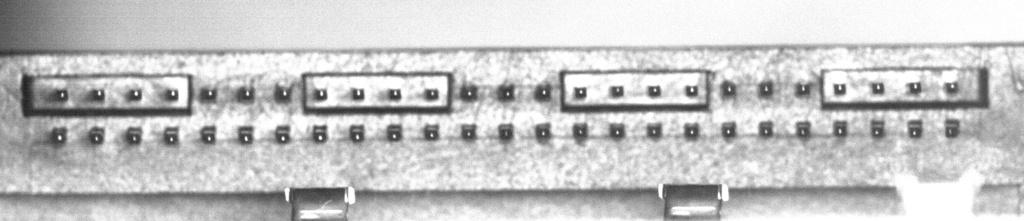pin_ok: (944, 118, 961, 138), (274, 83, 292, 101), (274, 125, 291, 144), (460, 83, 478, 100), (534, 83, 552, 100), (460, 123, 477, 140), (88, 127, 105, 144), (870, 119, 886, 137), (907, 119, 923, 137), (312, 124, 328, 142), (163, 126, 179, 144), (126, 127, 142, 145), (200, 125, 216, 143), (497, 84, 515, 100), (237, 85, 254, 101), (535, 123, 551, 140), (498, 123, 514, 140), (349, 124, 365, 141), (386, 124, 402, 141), (721, 121, 737, 138), (238, 127, 254, 144), (795, 81, 812, 97), (757, 81, 774, 97), (52, 127, 68, 144), (199, 86, 217, 101), (833, 119, 848, 137), (796, 120, 811, 138), (646, 122, 662, 138), (572, 122, 588, 138), (609, 122, 625, 138), (684, 122, 700, 138), (721, 81, 737, 97), (759, 120, 774, 137), (424, 124, 439, 140), (906, 80, 922, 94), (313, 87, 328, 101), (943, 80, 959, 93), (425, 87, 439, 101), (685, 83, 699, 97), (870, 81, 885, 94), (90, 88, 105, 101), (127, 88, 142, 101), (573, 86, 587, 99), (610, 84, 624, 97), (647, 84, 661, 97), (54, 88, 68, 101), (351, 87, 364, 100), (833, 82, 846, 95), (166, 88, 179, 101), (388, 88, 402, 100)
